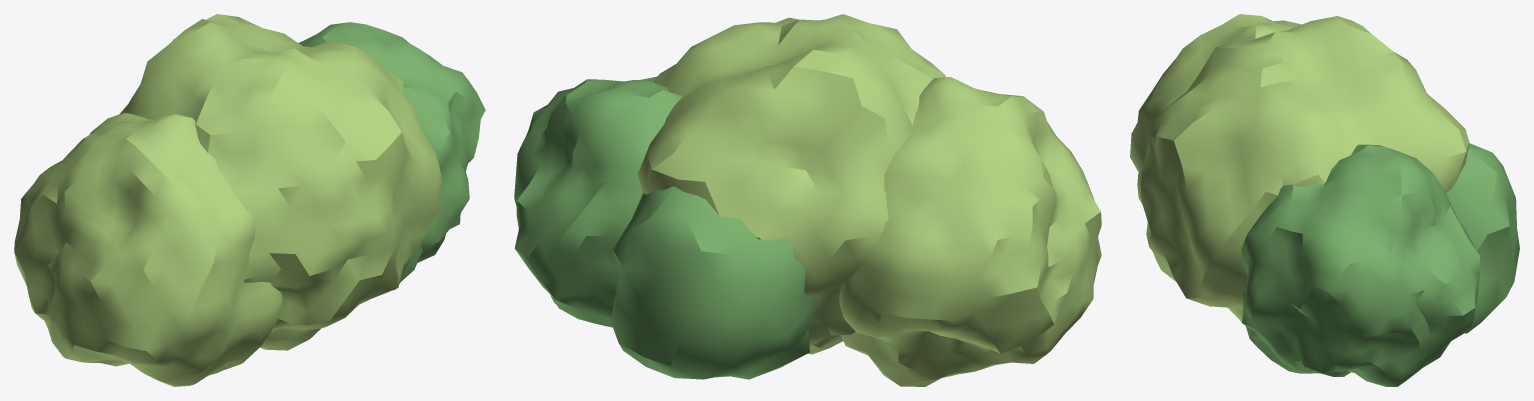
File: bush.glb
3 views of the same model, side by side, from view 1: azimuth 30°, elevation 25°; view 2: azimuth 150°, elevation 25°; view 3: azimuth 270°, elevation 25° (orthographic). The views are drawn at different scales.
Visible parts, largest first — view 1: bush; view 2: bush; view 3: bush.
Boxes of the visible parts, box(x1,y1,x2,y2) form: bush: box(14, 14, 485, 386); bush: box(514, 14, 1101, 386); bush: box(1130, 14, 1519, 386).
Size of the model in its own units: 2.04 by 1.31 by 1.52.
